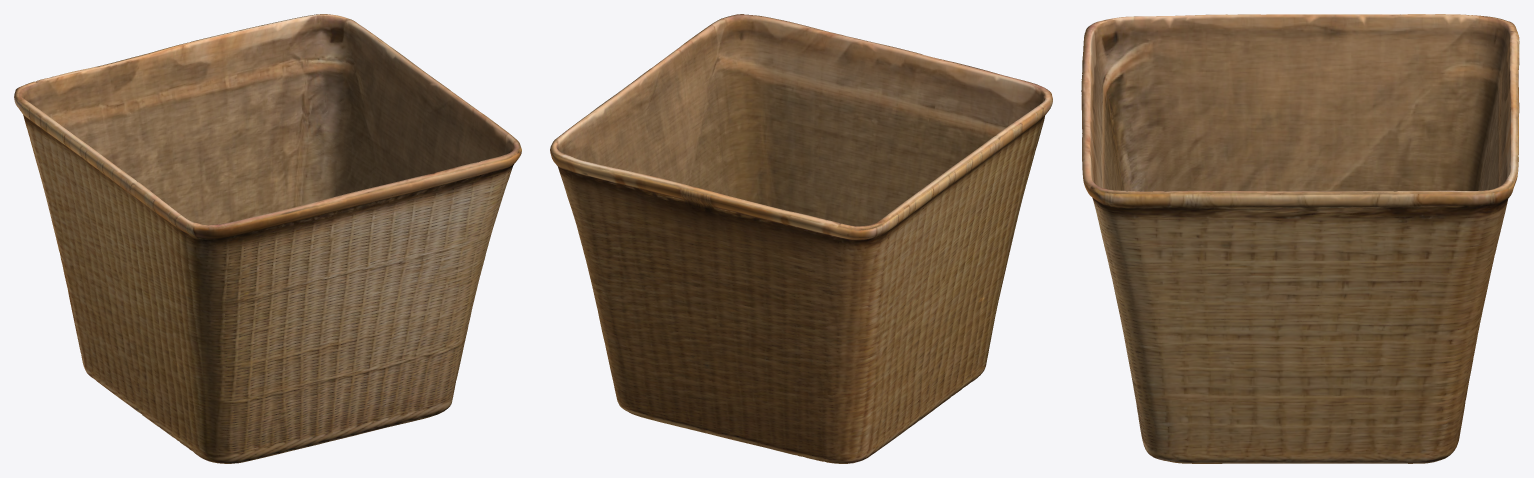
File: wide_square_basket_1108165617_refine.fbx
The picture shows the model from 3 angles, left to right: view 1: azimuth 30°, elevation 25°; view 2: azimuth 150°, elevation 25°; view 3: azimuth 270°, elevation 25°; orthographic projection. The views are drawn at different scales.
Visible parts, largest first — view 1: Mesh_0; view 2: Mesh_0; view 3: Mesh_0.
Boxes of the visible parts, box(x1,y1,x2,y2) form: Mesh_0: box(14, 14, 521, 463); Mesh_0: box(550, 14, 1052, 463); Mesh_0: box(1081, 14, 1519, 463).
Size of the model in its own units: 195 by 153 by 200.
Materials: 1 (1 with a texture image).
